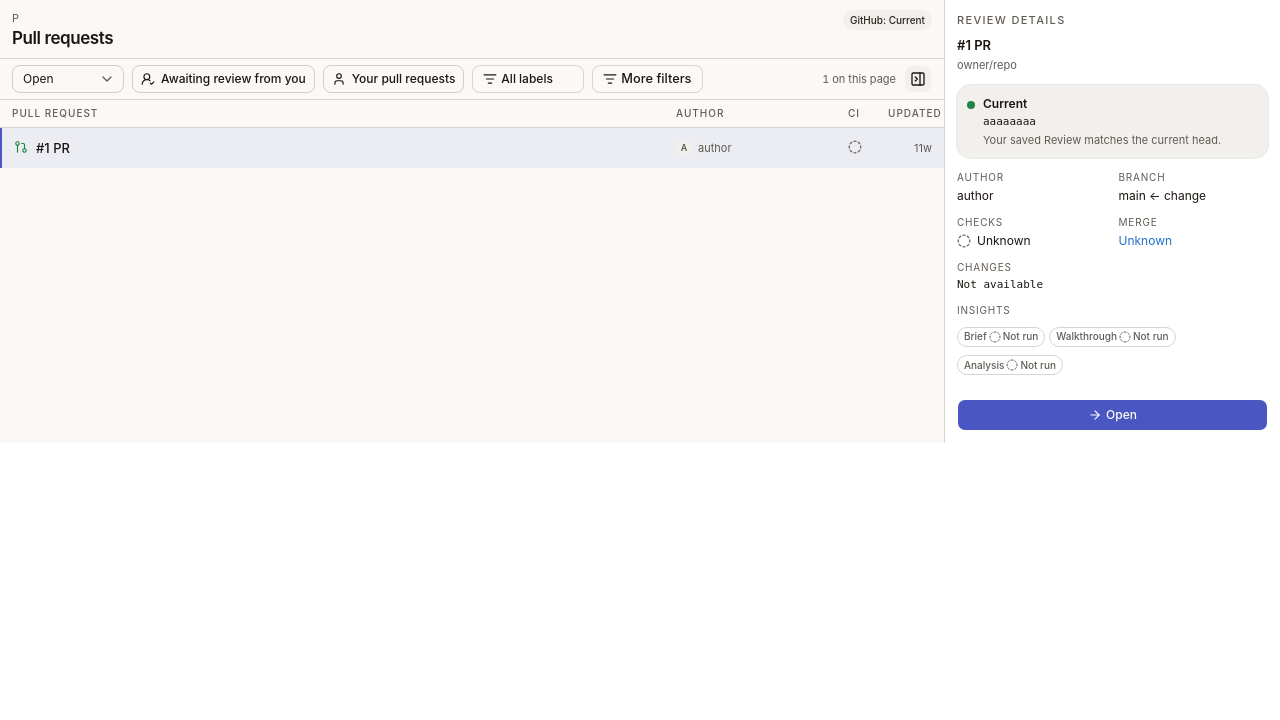
Scenario: MaintainerInbox › shows the read failure instead of an empty list when the label read fails
The width and height of the screenshot is (1280, 720).
Click the button with aria-label "Filter by label".
click(528, 79)  # box [472,65,584,93]
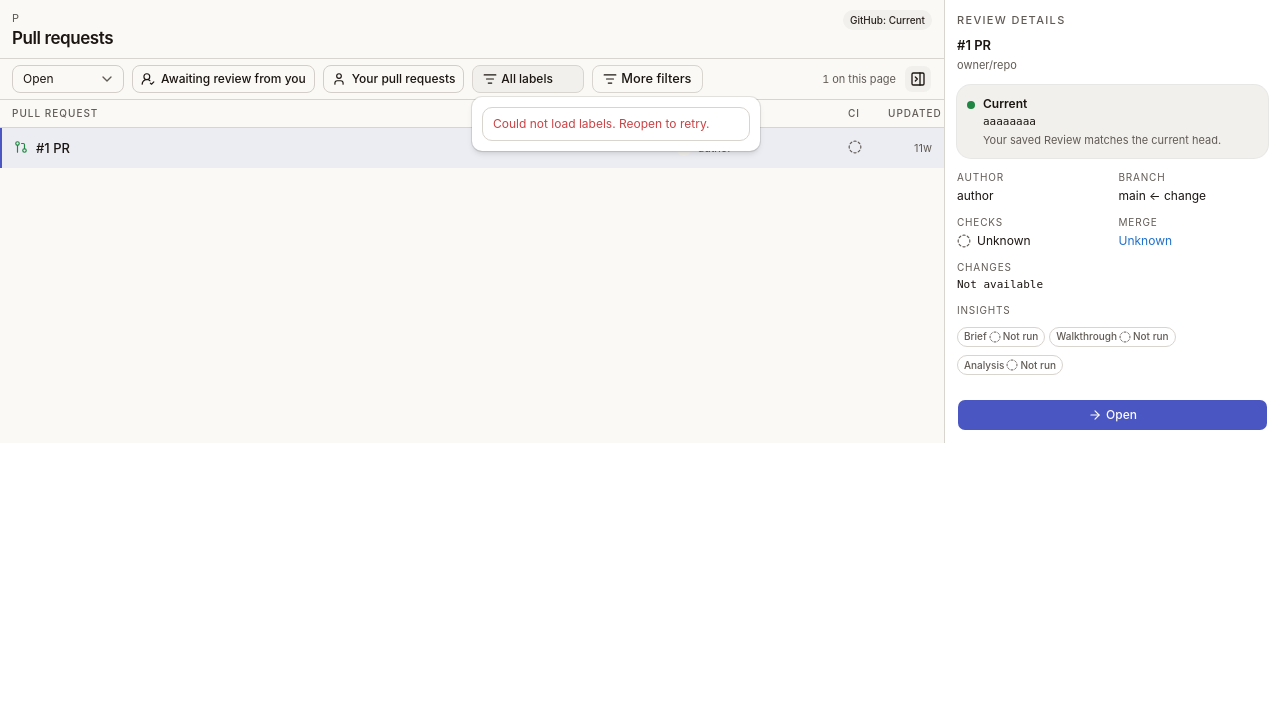
Check: the text "Could not load labels. Reopen to retry." is shown, box [493,116,739,132]
